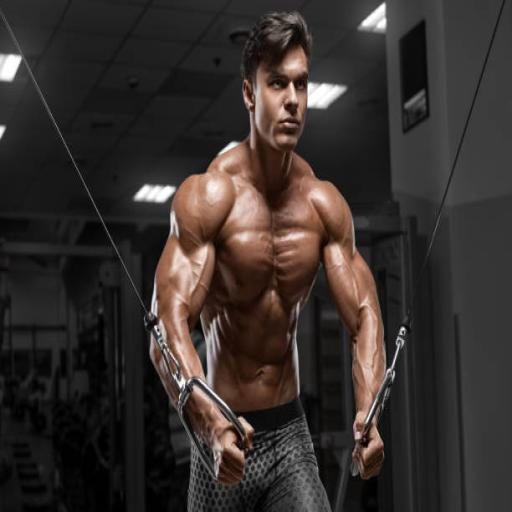Person: (132, 77, 416, 416)
no_gloves: (188, 331, 256, 406), (340, 341, 384, 403)
no_goggle: (234, 127, 312, 159)
no_helmet: (240, 89, 324, 161)
none: (169, 181, 380, 374)
